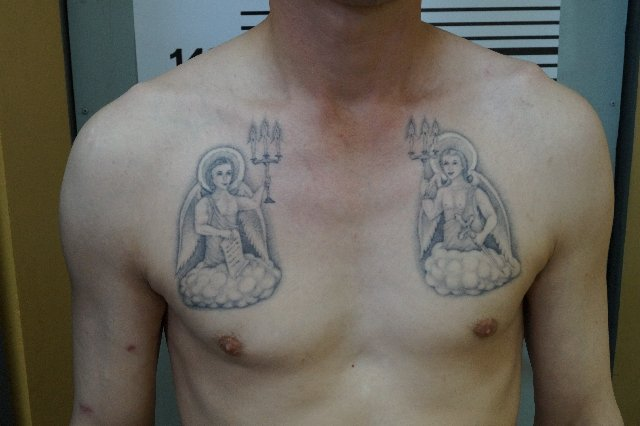tatu1_angel: (169, 143, 287, 317), (409, 128, 525, 298)
